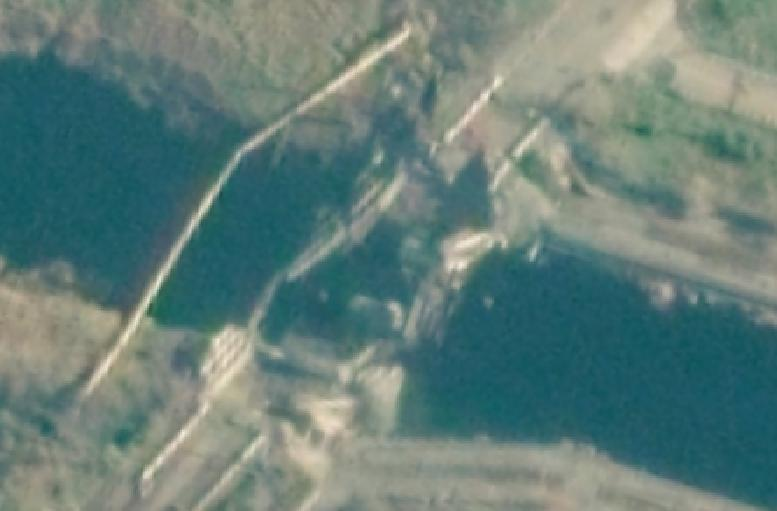demaged-bridge-high: (158, 70, 529, 439)
